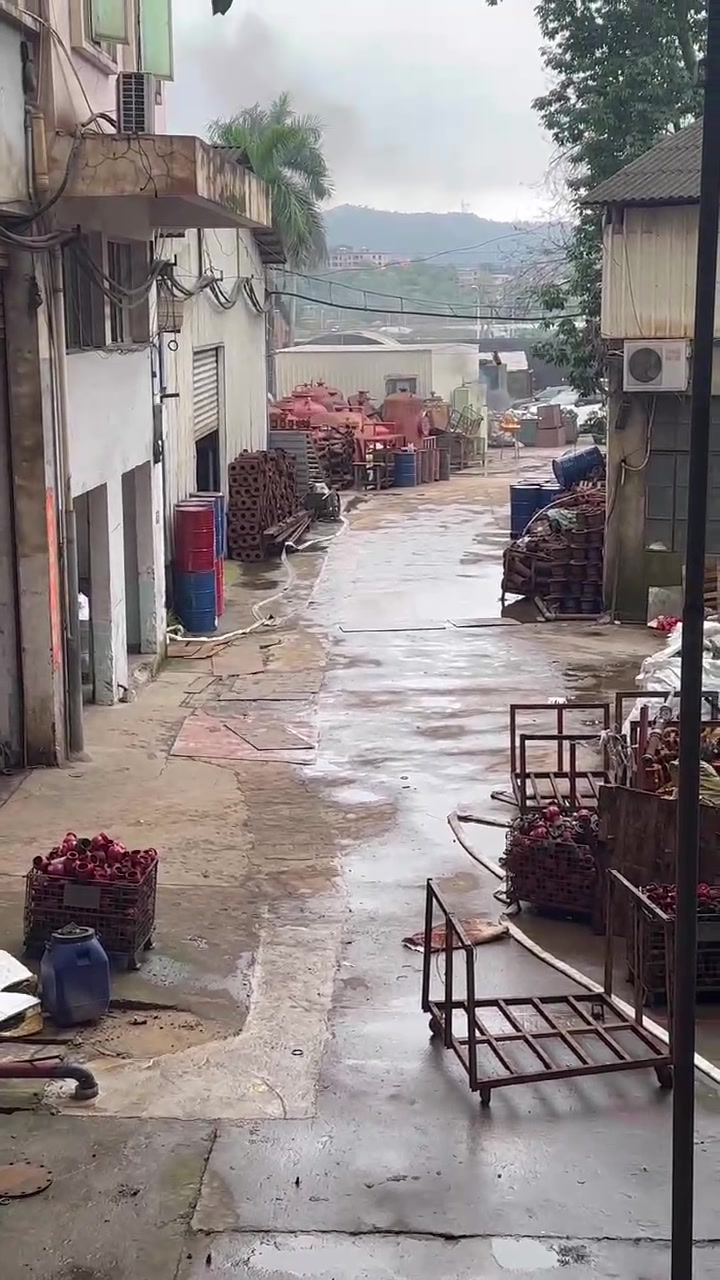fire: (500, 414, 520, 427)
